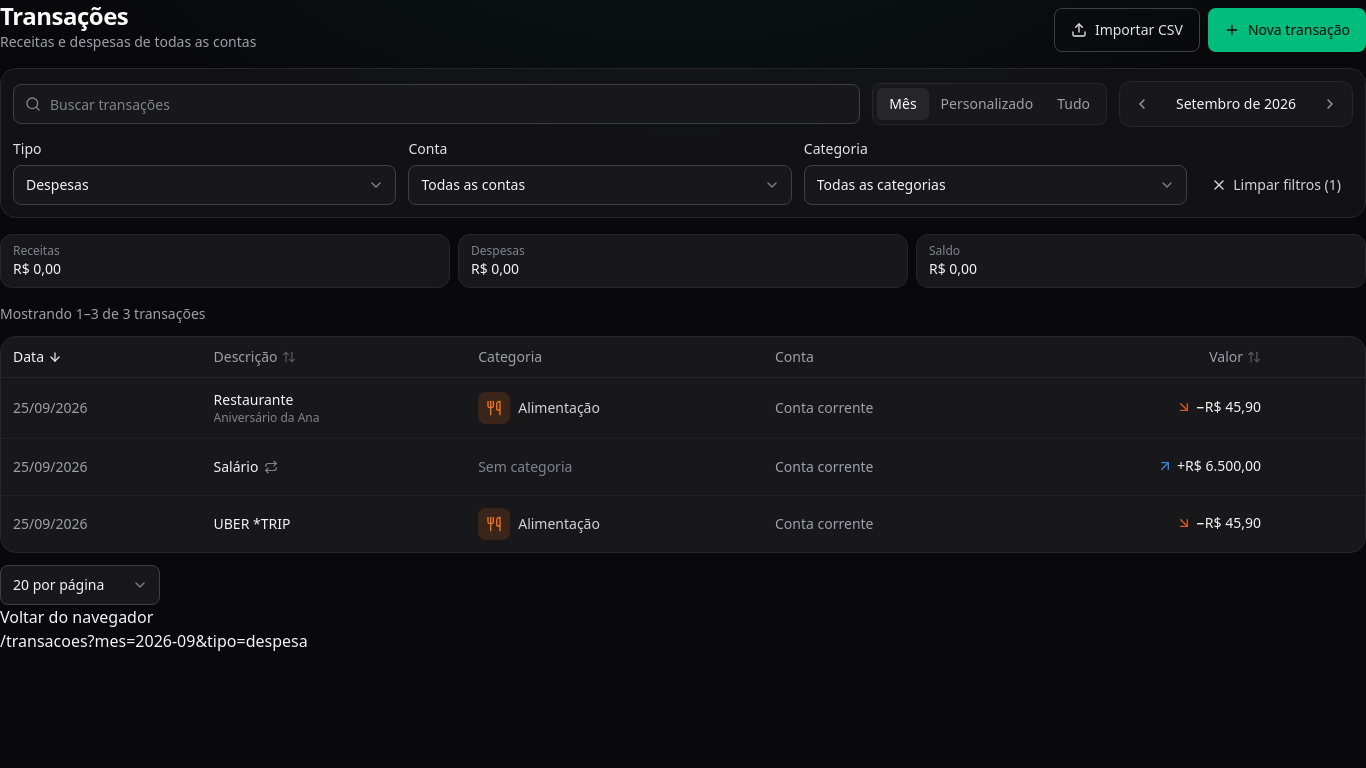
Test: transaction detail drawer › opens from the list keeping the filters, and shows the full detail
Step 1. Click the button "Restaurante" → (253, 400), box [214,390,293,410]
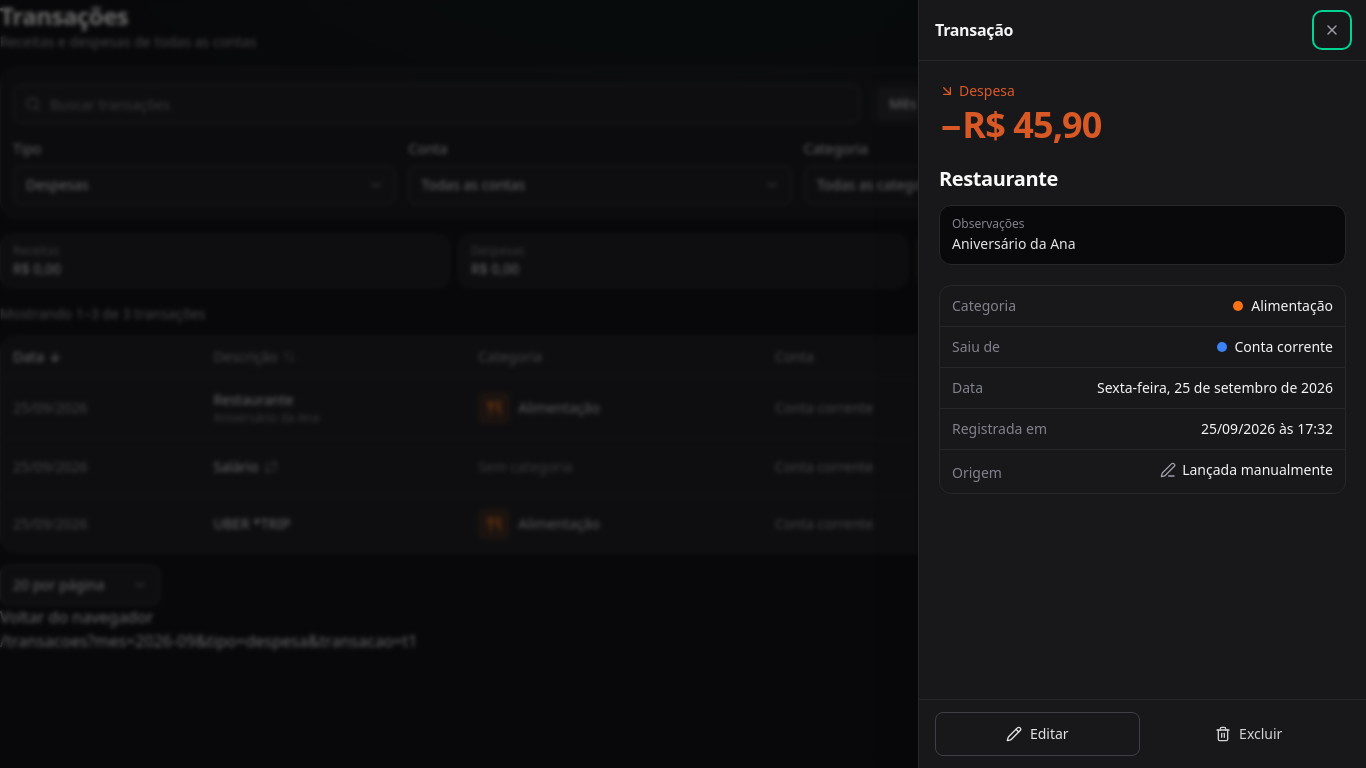
Check: the text with test id "location" reads "/transacoes?mes=2026-09&tipo=despesa&transacao=t1", box [0,630,417,652]
Check: the dialog named "Detalhes da transação: Restaurante" shows "Aniversário da Ana", box [952,234,1076,253]
Check: the dialog named "Detalhes da transação: Restaurante" shows "Sexta-feira, 25 de setembro de 2026", box [1097,378,1333,397]
